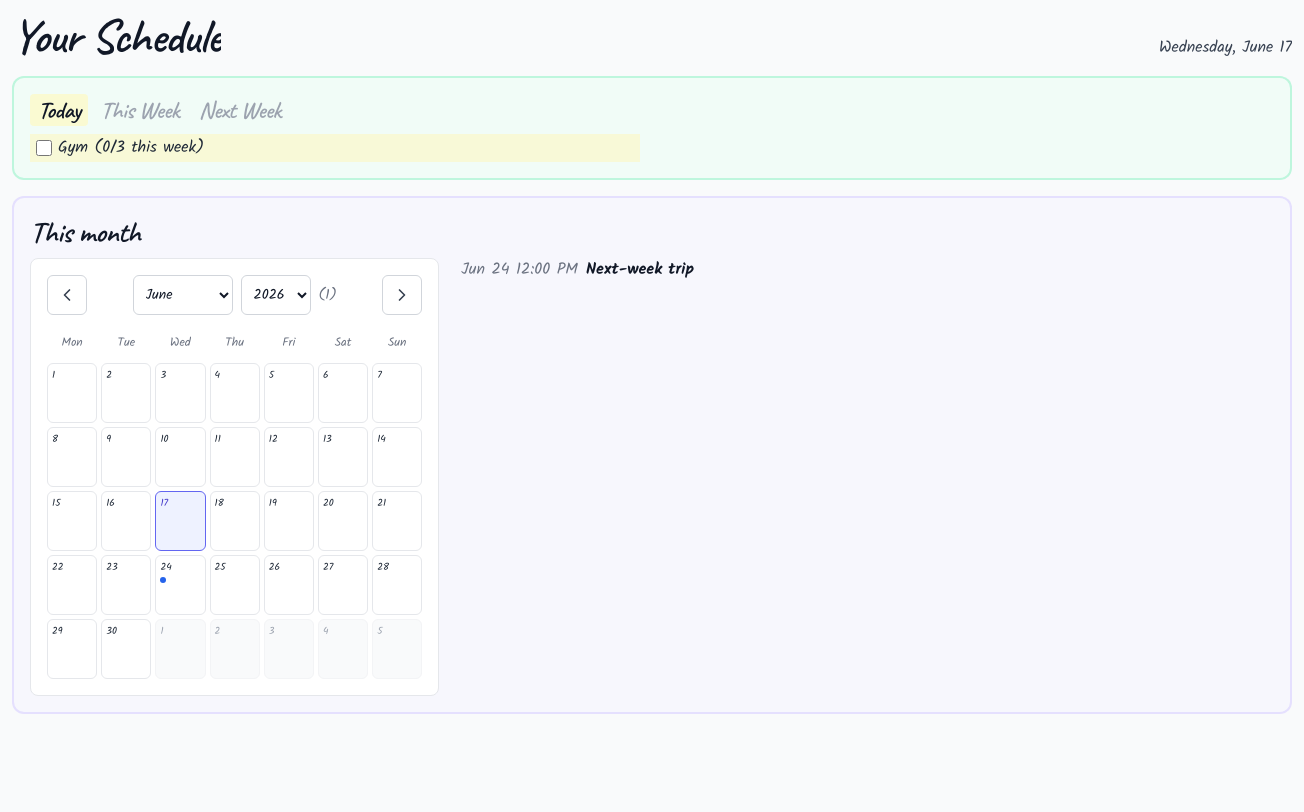
Test: ScheduleOverview › tapping "Next Week" shows next-week events but no routines
Expected: the text "Gym (0/3 this week)" is shown, [58,136,204,160]
Click the tab "Next Week" at (240, 110), box [191,94,289,126]
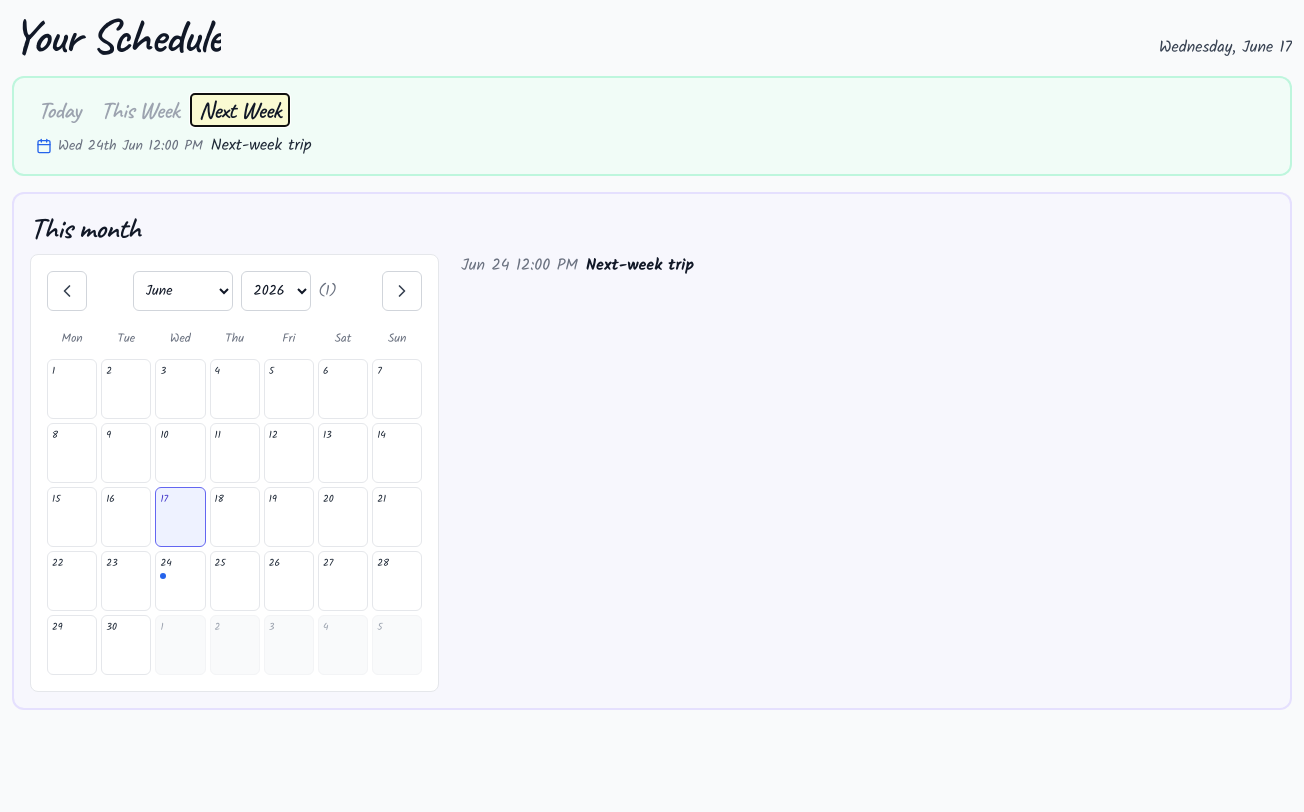
Expected: the text "Next-week trip" is shown, [211,133,311,158]
Expected: the text "Gym (0/3 this week)" is gone
